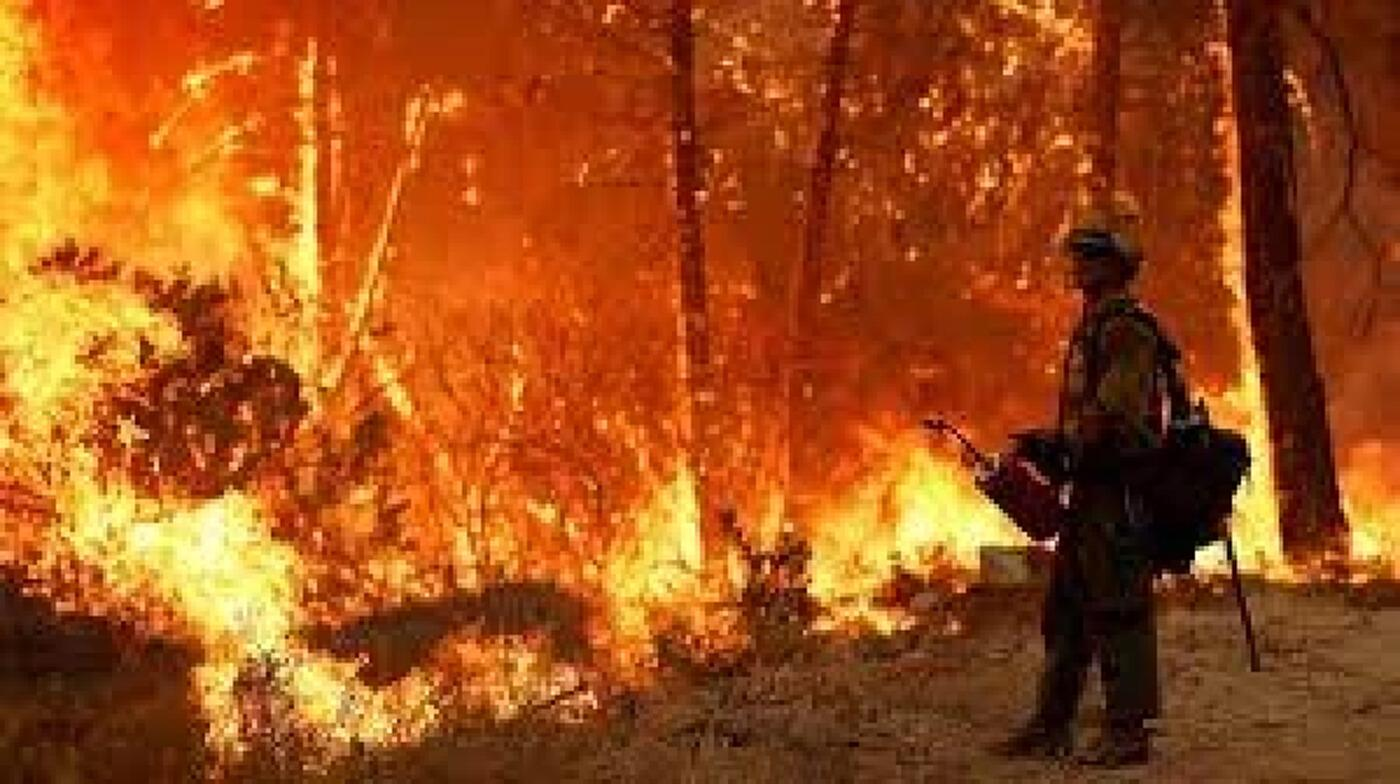fire: (5, 5, 912, 782), (1193, 38, 1400, 629)
